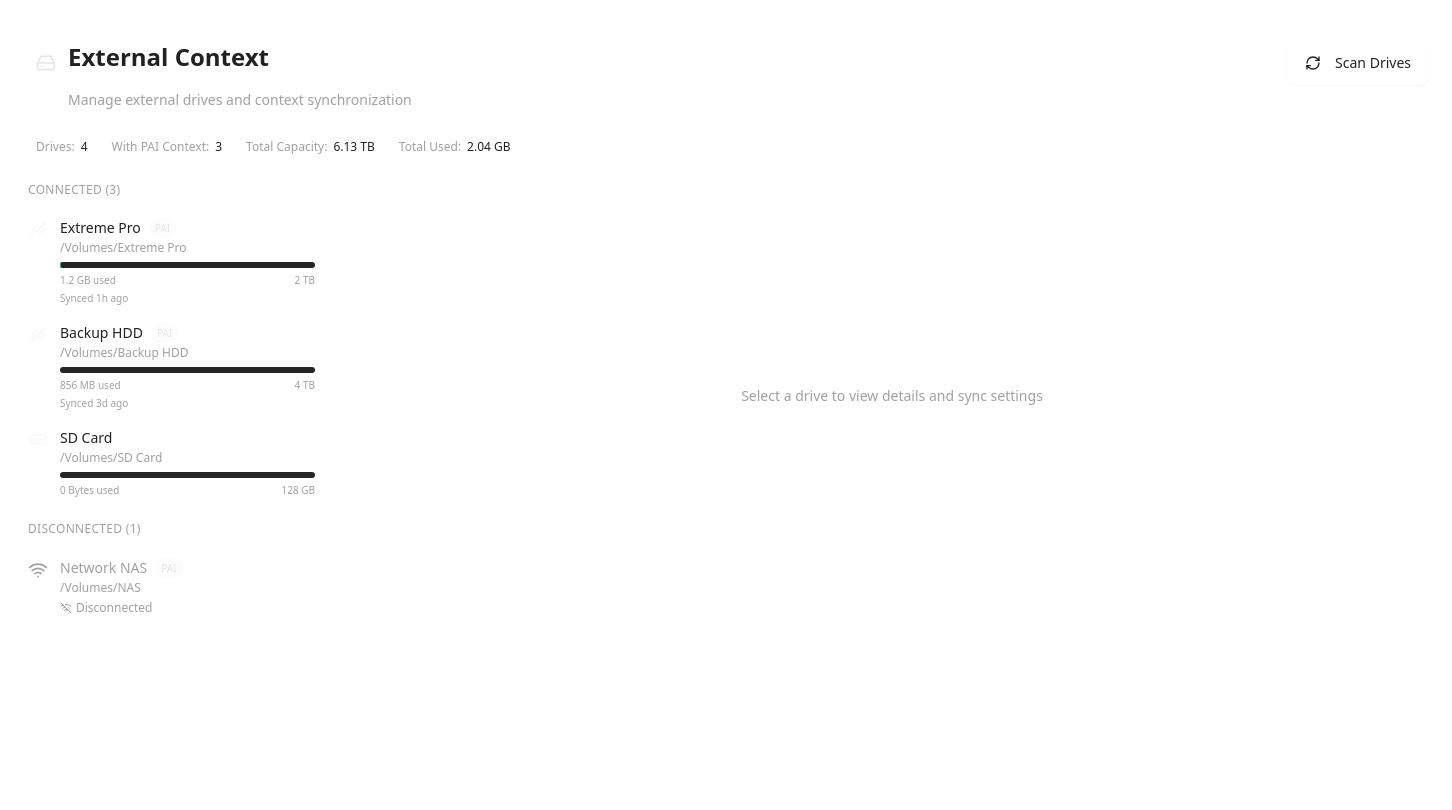
Test: ExternalContextPage › should show disconnected state for offline drive
This screenshot has width=1452, height=810.
Expected: the text "Network NAS" is shown, left=60, top=558, right=147, bottom=578
What coordinates should you click on to do the following:
click the button "Network NAS PAI /Volumes/NAS Disconnected"
I would click on:
 (104, 567)
Its box is left=12, top=550, right=331, bottom=625.
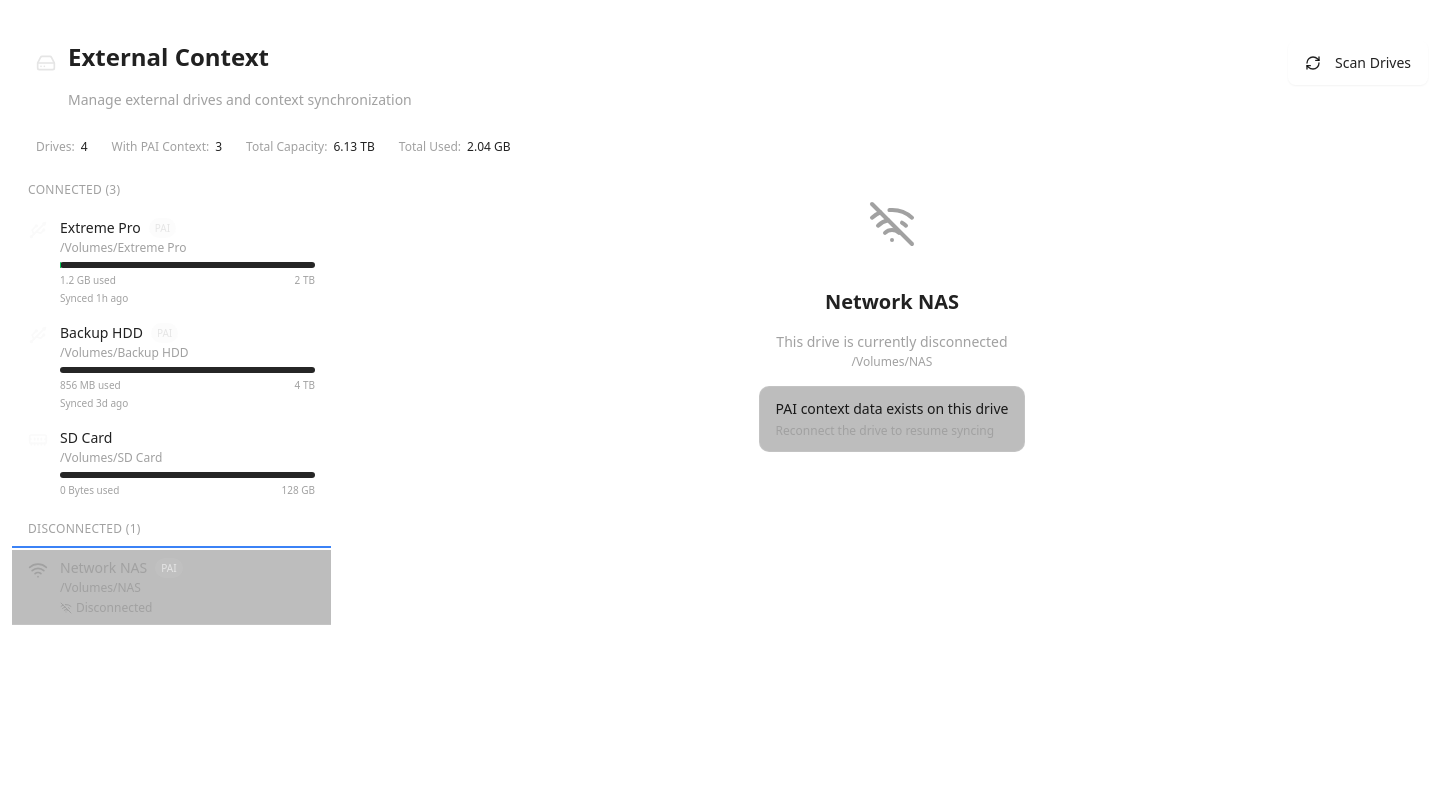
Now the text "This drive is currently disconnected" is shown, box left=776, top=332, right=1008, bottom=352
